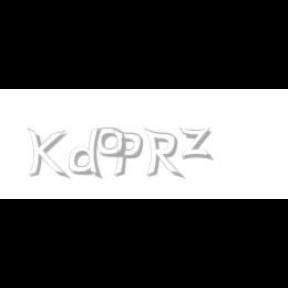K: (27, 128, 67, 180)
P: (111, 128, 143, 178)
R: (144, 128, 182, 180)
d: (70, 128, 106, 180)
o: (97, 128, 126, 158)
z: (179, 128, 215, 160)
